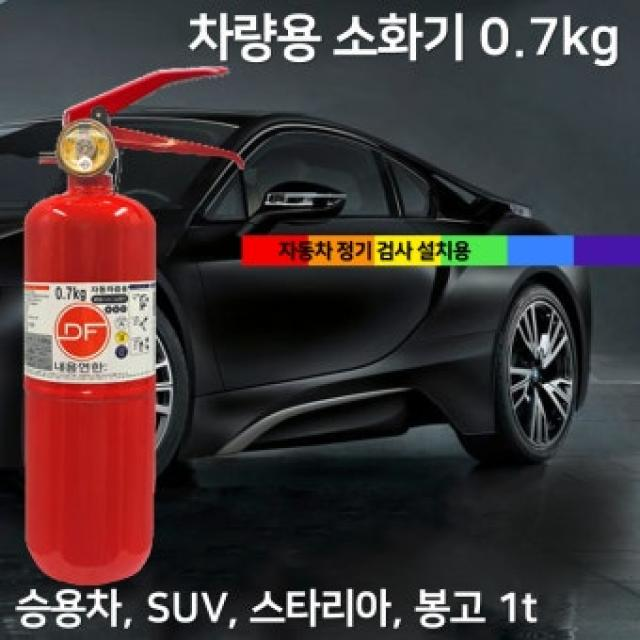pressure gauge: (57, 121, 114, 176)
